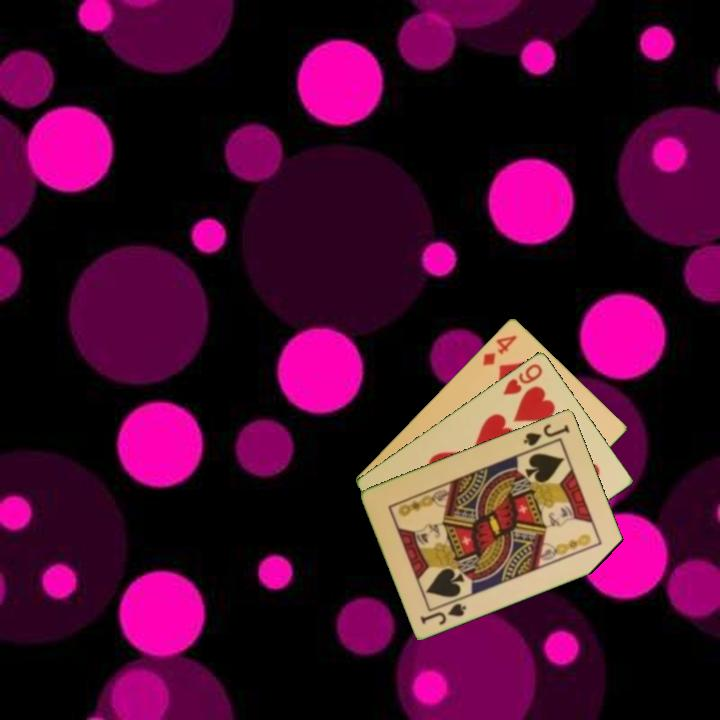4d: (479, 331, 520, 369)
9h: (500, 360, 546, 398)
Js: (520, 420, 573, 449), (417, 599, 470, 628)
